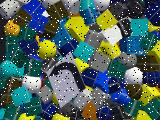Left: (46, 51, 86, 108)
